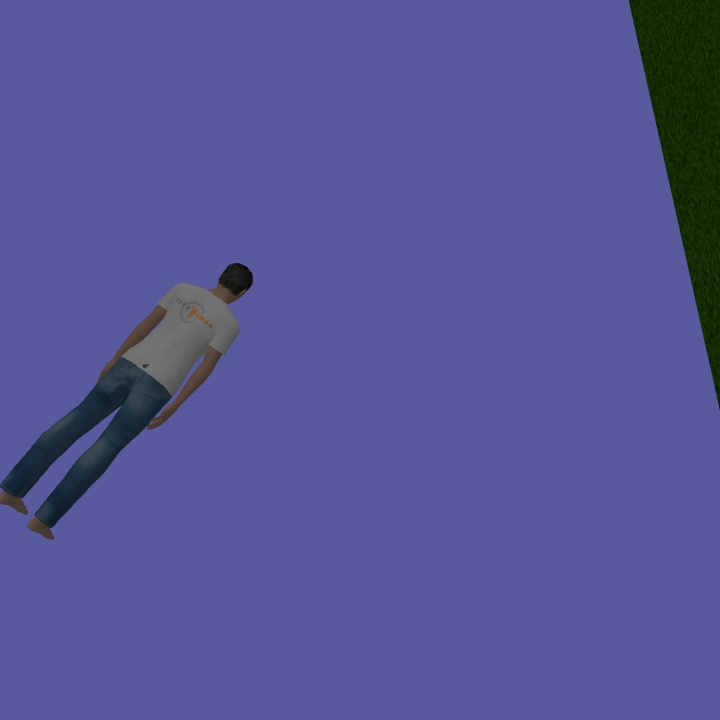victim: (2, 257, 258, 544)
